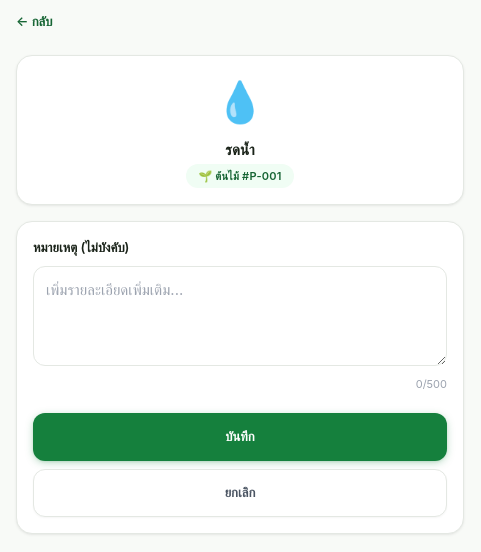
ActionForm › form submission › shows loading text while submitting
The image size is (481, 552).
Click the button "บันทึก" at (240, 436), box [33,412,447,460]
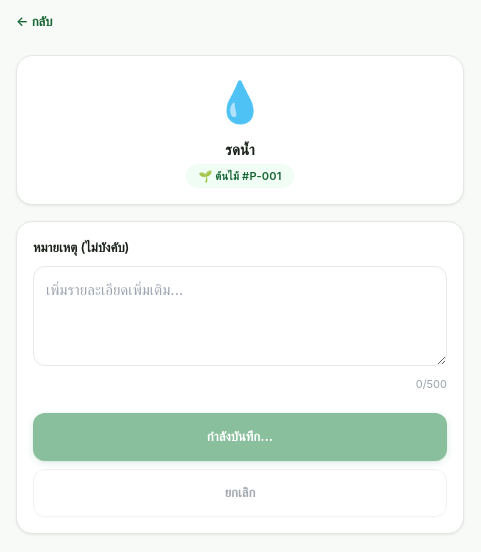
Expected: the button "กำลังบันทึก..." is shown, [33,412,447,460]
